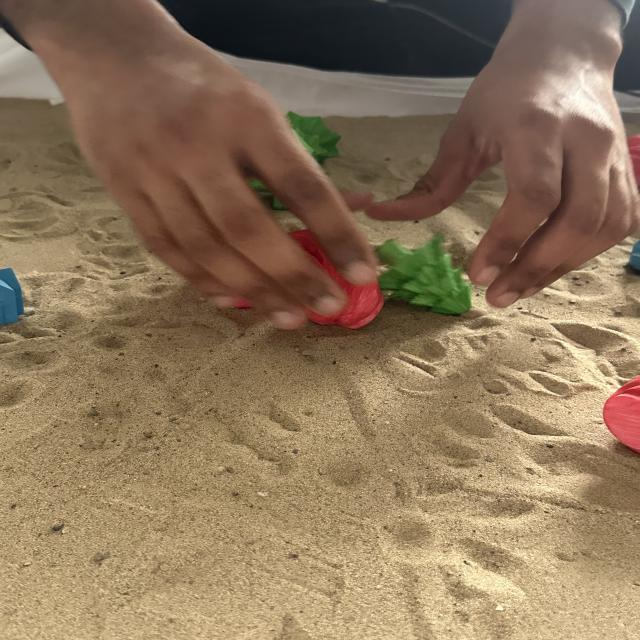fire: (282, 226, 386, 331), (597, 368, 640, 459)
house: (0, 265, 27, 327)
tree: (372, 232, 474, 317), (286, 111, 334, 163)
